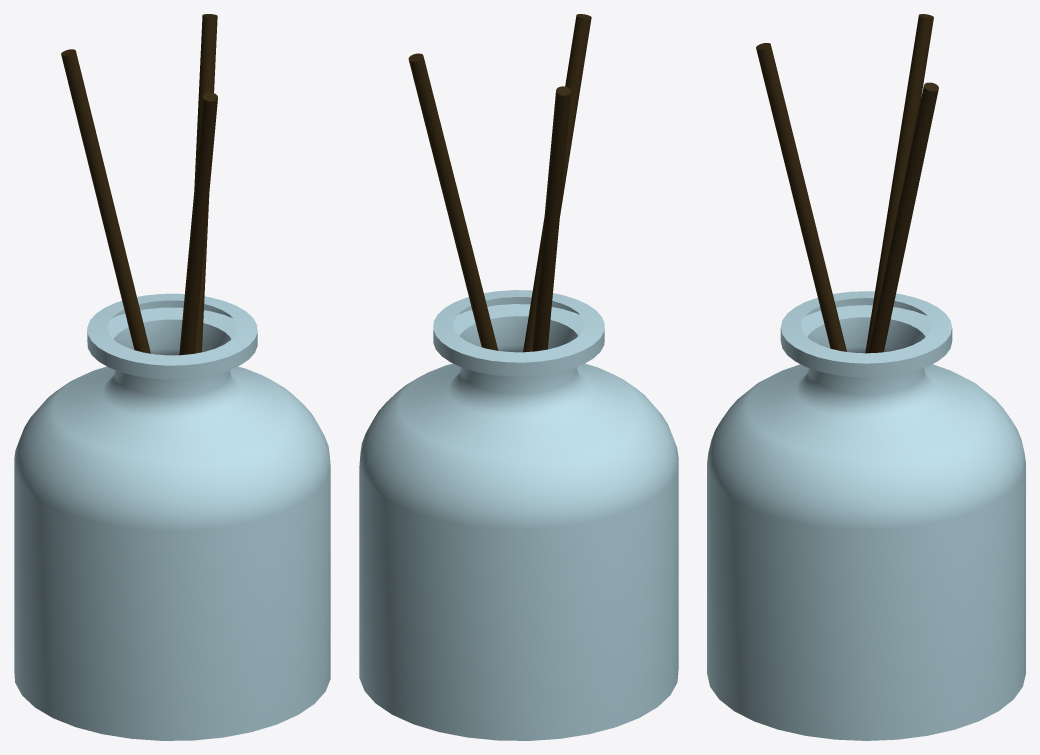
The model's file is diffuser.gltf.
The picture shows the model from 3 angles, left to right: view 1: azimuth 30°, elevation 25°; view 2: azimuth 150°, elevation 25°; view 3: azimuth 270°, elevation 25°; orthographic projection.
Visible parts, largest first — view 1: 円柱, 円柱.001, 円柱.003, 円柱.002; view 2: 円柱, 円柱.002, 円柱.001, 円柱.003; view 3: 円柱, 円柱.003, 円柱.002, 円柱.001.
Part boxes in pixels (bbox=[...]): 円柱: bbox=[14, 293, 330, 740]; 円柱.001: bbox=[61, 49, 150, 353]; 円柱.003: bbox=[179, 92, 217, 355]; 円柱.002: bbox=[194, 14, 217, 353]; 円柱: bbox=[359, 290, 678, 740]; 円柱.002: bbox=[408, 53, 498, 350]; 円柱.001: bbox=[532, 86, 571, 351]; 円柱.003: bbox=[523, 14, 591, 352]; 円柱: bbox=[707, 291, 1025, 740]; 円柱.003: bbox=[756, 43, 846, 351]; 円柱.002: bbox=[868, 82, 938, 353]; 円柱.001: bbox=[865, 14, 933, 353].
Size of the model in its own units: 2 by 4.31 by 2.
